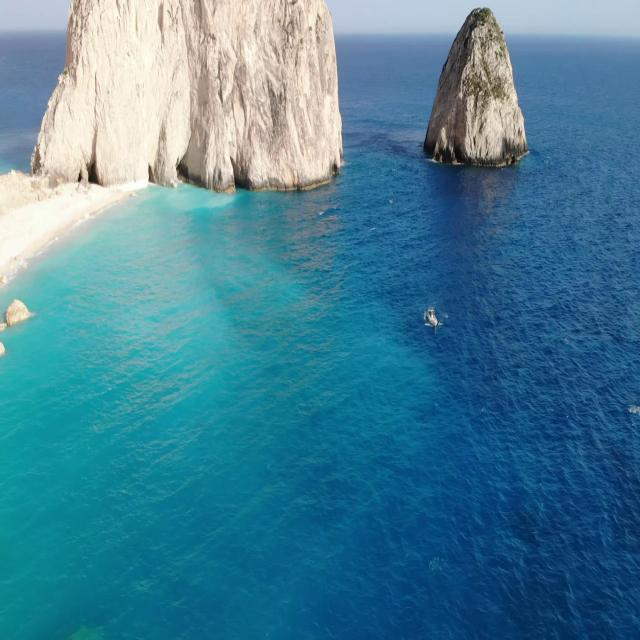boat: (424, 304, 438, 329)
